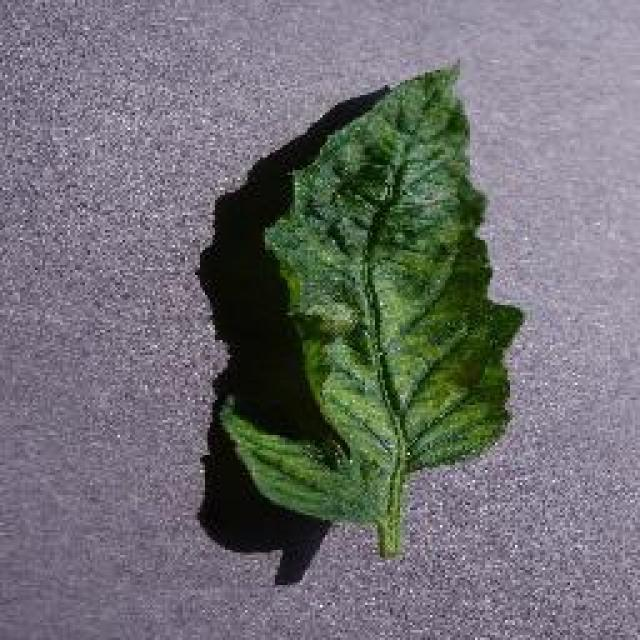Tomato spider mites leaf: (220, 61, 522, 521)
